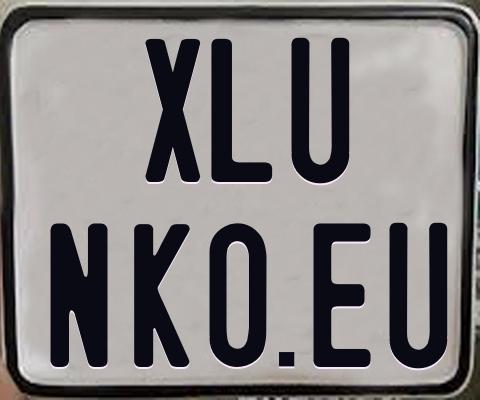0: (206, 220, 264, 368)
E: (311, 220, 373, 365)
K: (132, 221, 194, 368)
L: (211, 37, 278, 182)
N: (50, 220, 110, 364)
U: (291, 38, 351, 187), (387, 223, 446, 373)
X: (142, 38, 197, 186)
